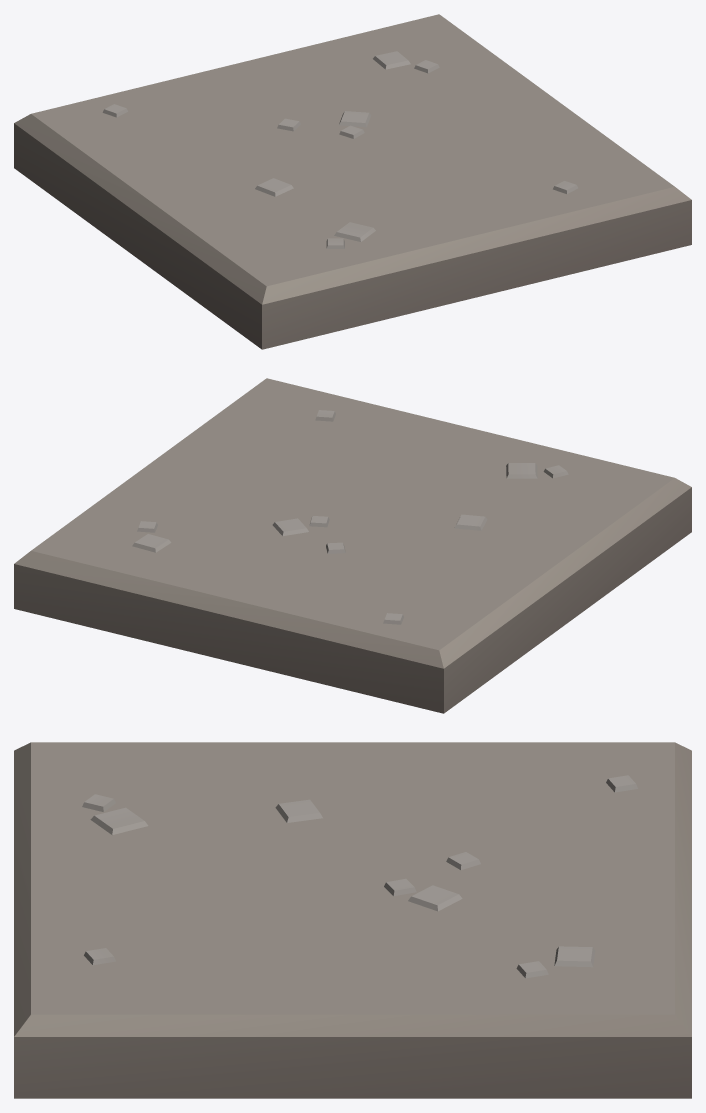
Rendered from Floor Dirt.glb.
3 views of the same model, one above another, from view 1: azimuth 30°, elevation 25°; view 2: azimuth 150°, elevation 25°; view 3: azimuth 270°, elevation 25° (orthographic). The views are drawn at different scales.
Parts seen in each view (by area): view 1: floor_dirt; view 2: floor_dirt; view 3: floor_dirt.
Part boxes in pixels (x1,y1,x2,y2): floor_dirt: [14, 14, 691, 349]; floor_dirt: [14, 378, 691, 713]; floor_dirt: [14, 742, 691, 1098].
Bounding box in the file's own units: 4 × 0.53 × 4.
1 material, 1 textured.
